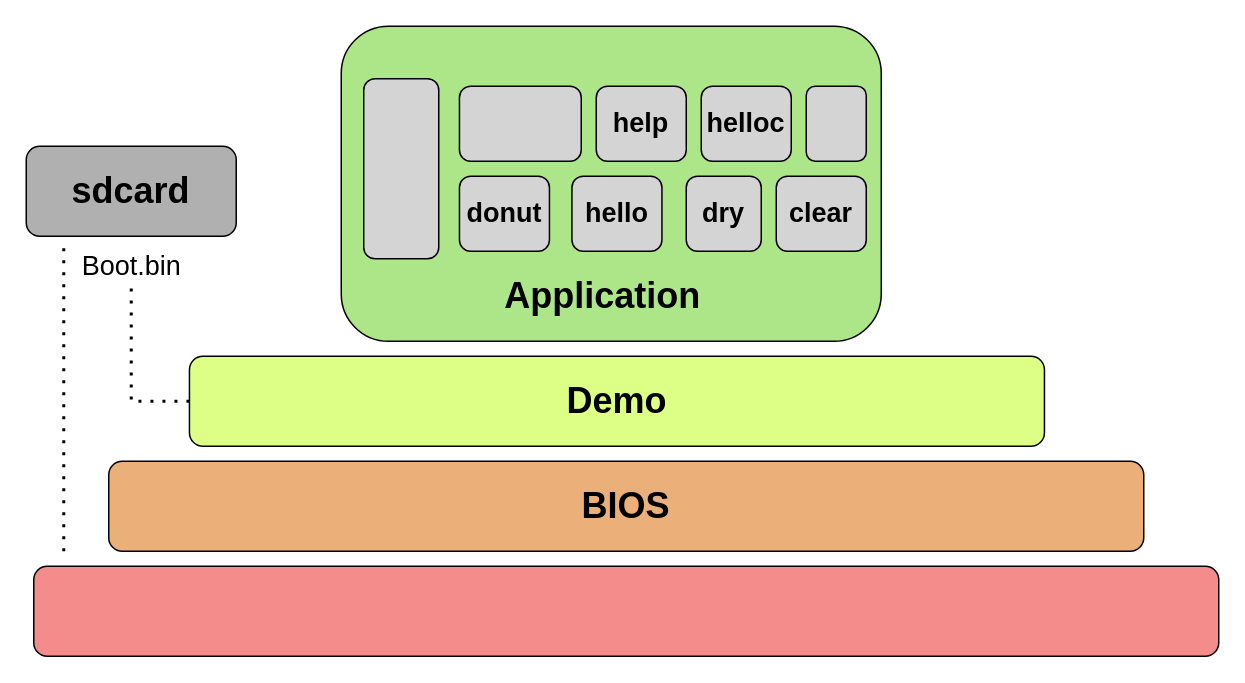
This 1245x683 diagram has some shape labels left out. Each missing label, with the box of its shape:
C Programe: (362, 77, 439, 259)
cmatrix: (458, 85, 581, 161)
led: (805, 85, 866, 161)
SoC: (32, 565, 1219, 656)
